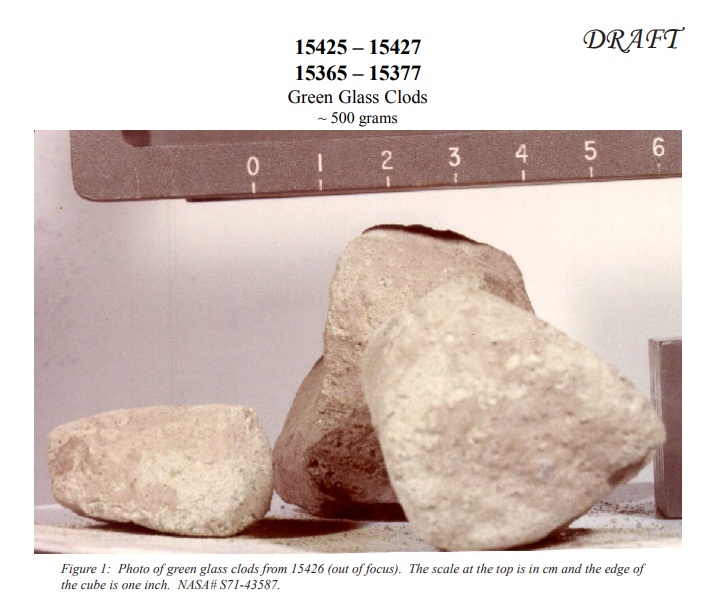Breccia: (348, 269, 652, 540), (149, 314, 374, 522), (34, 373, 287, 525)
